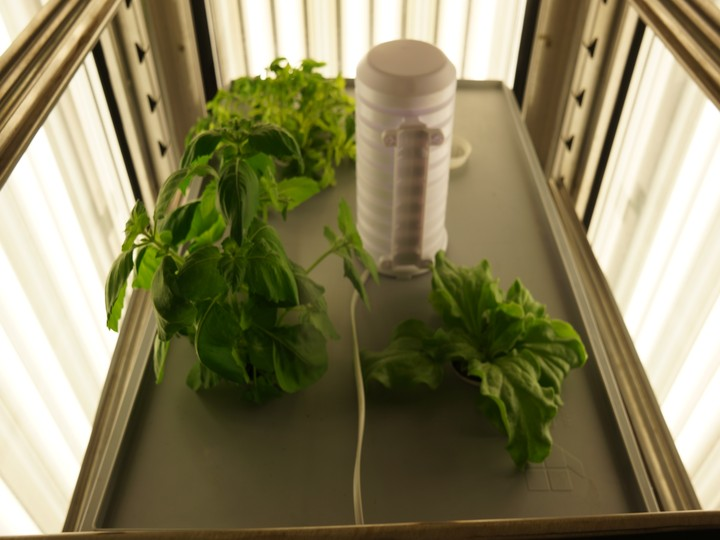basilic_blue_spice: (97, 121, 364, 421)
ficoide_glaciale: (371, 262, 598, 483)
roquette_sauvage_red_veined: (201, 56, 354, 122)
